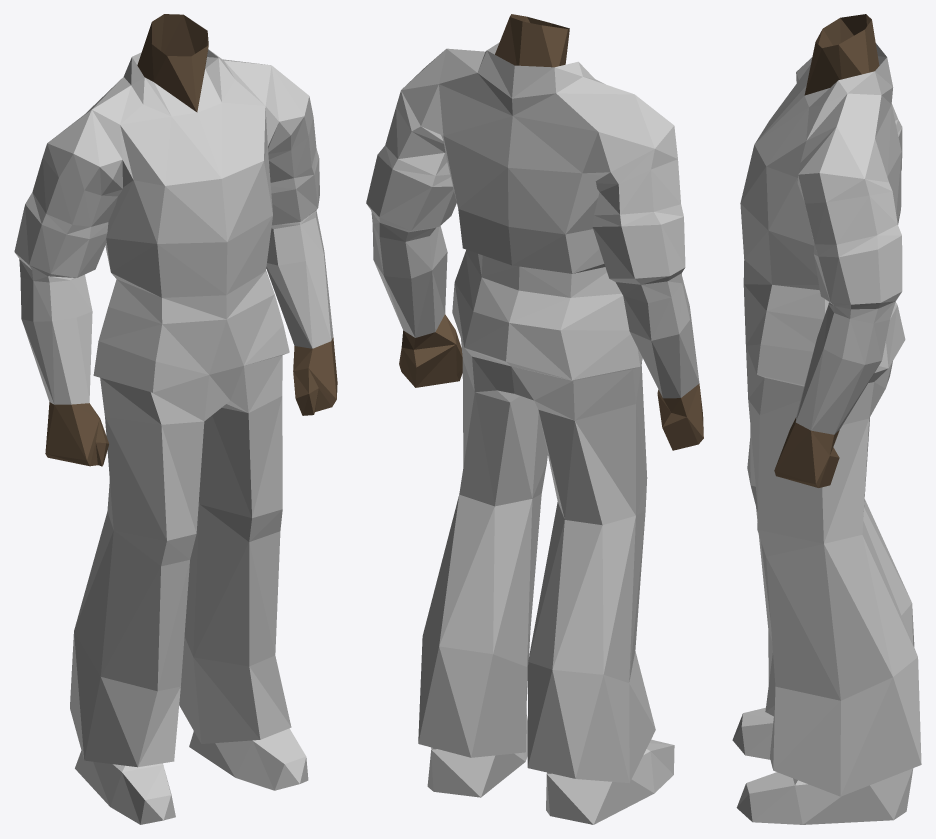
Rendered from ARMOR_LEATHER_L.OBJ.
The picture shows the model from 3 angles, left to right: view 1: azimuth 30°, elevation 25°; view 2: azimuth 150°, elevation 25°; view 3: azimuth 270°, elevation 25°; orthographic projection. The views are drawn at different scales.
Parts seen in each view (by area): view 1: ARMOR_LEATHER_L; view 2: ARMOR_LEATHER_L; view 3: ARMOR_LEATHER_L.
Boxes of the visible parts, x1,y1,x2,y2 form: ARMOR_LEATHER_L: (14,14,337,824); ARMOR_LEATHER_L: (366,14,703,824); ARMOR_LEATHER_L: (732,14,921,824).
Size of the model in its own units: 0.6897 by 1.68 by 0.3779.
